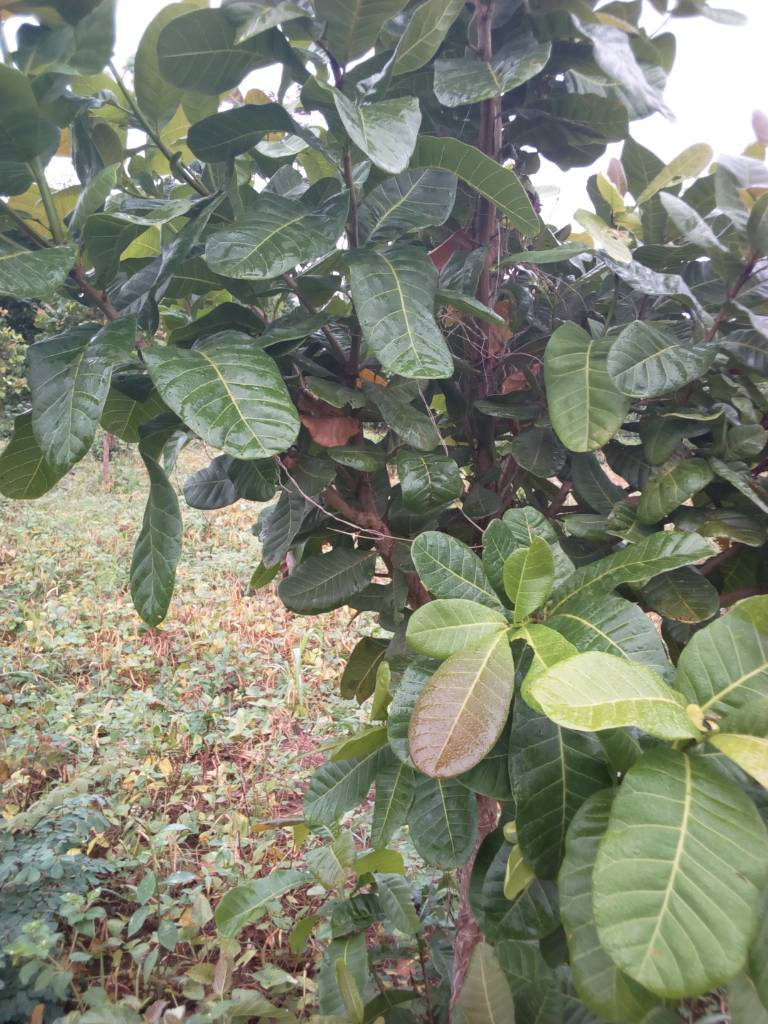Helopeltis anacardii: (29, 327, 125, 472)
